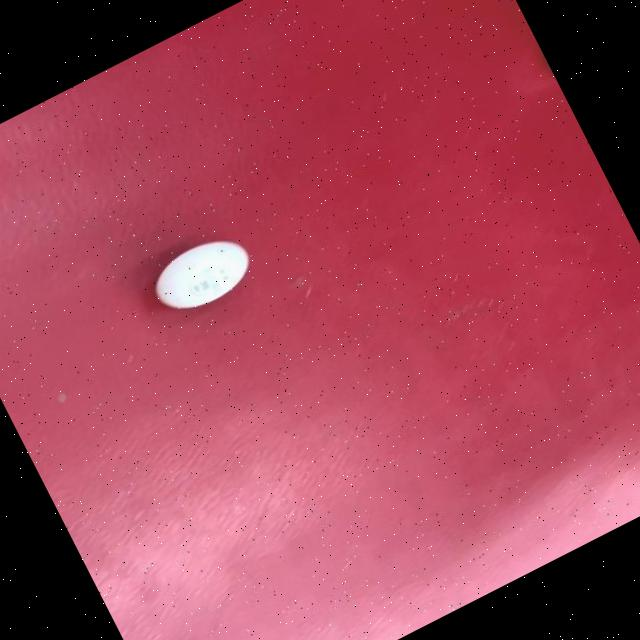ping-pong-ball: (146, 226, 262, 325)
